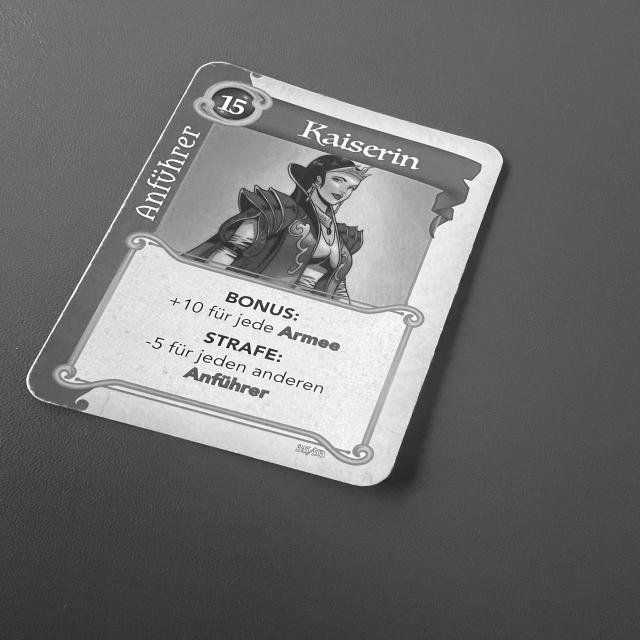Empress: (13, 56, 516, 499)
